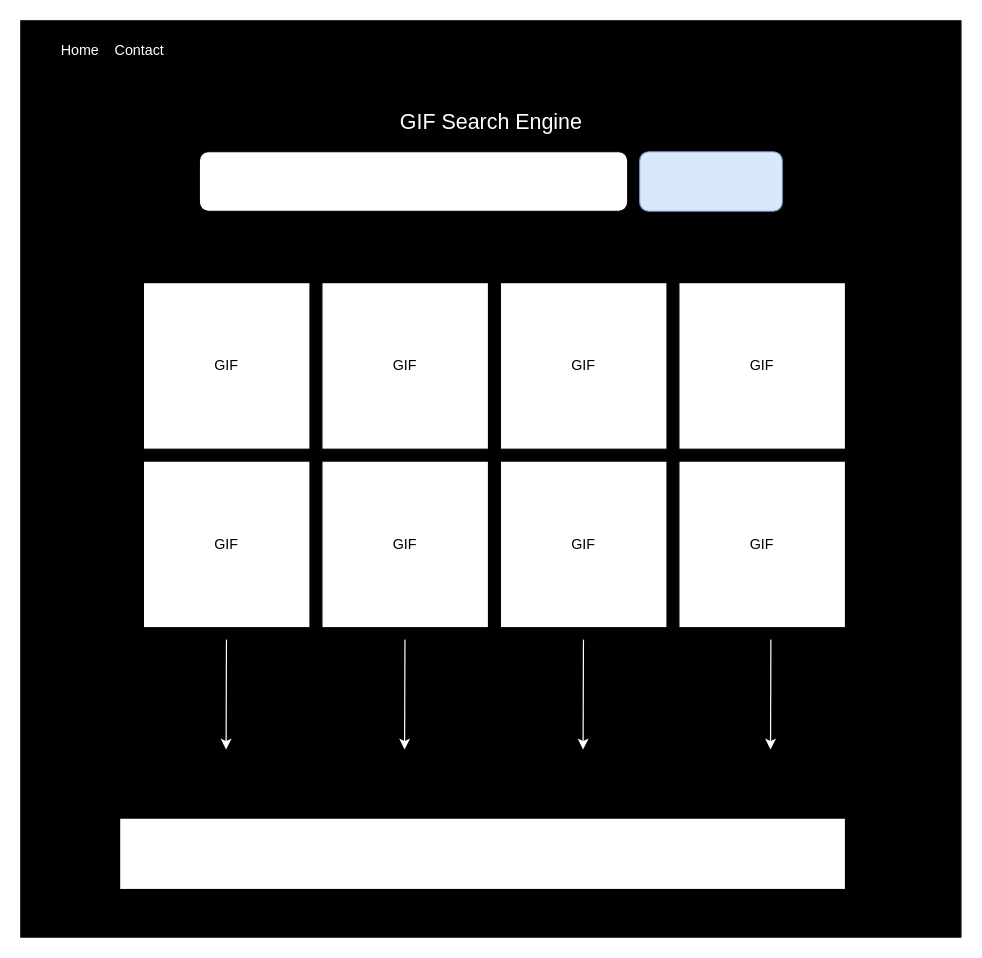
Image size: 982x958. Some labels were removed from this diagram. Each missing label, with the box of its shape:
Footer: (118, 817, 845, 890)
Search all GIFS: (198, 151, 628, 211)
Submit: (638, 151, 782, 211)
